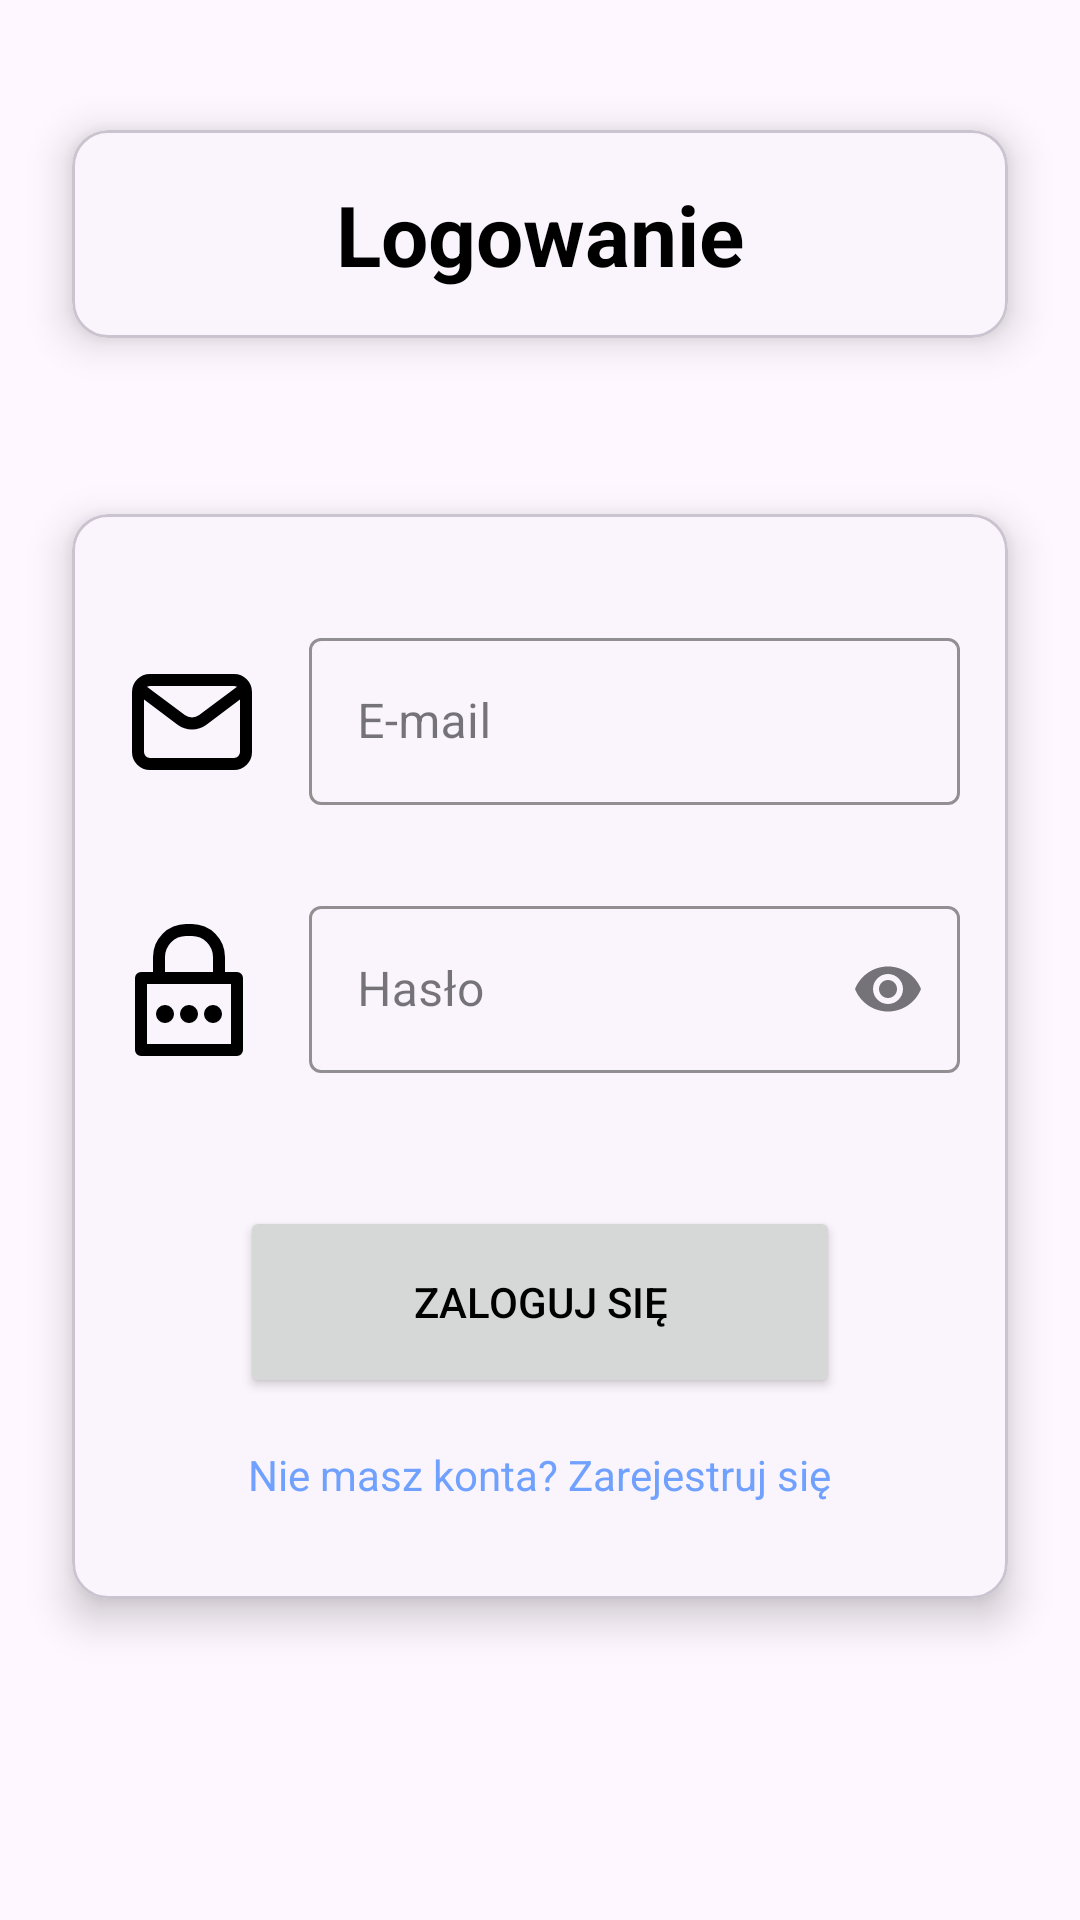

Where icons sit on this 1080×1920 app screen, as bbox(x1, y1, x2, y2):
password lock: bbox(135, 924, 243, 1056)
